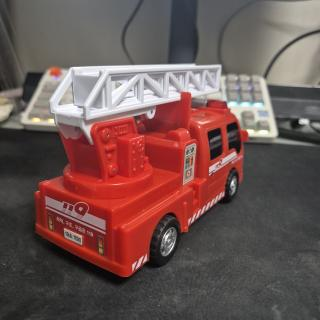Fire_truck: (35, 65, 248, 277)
